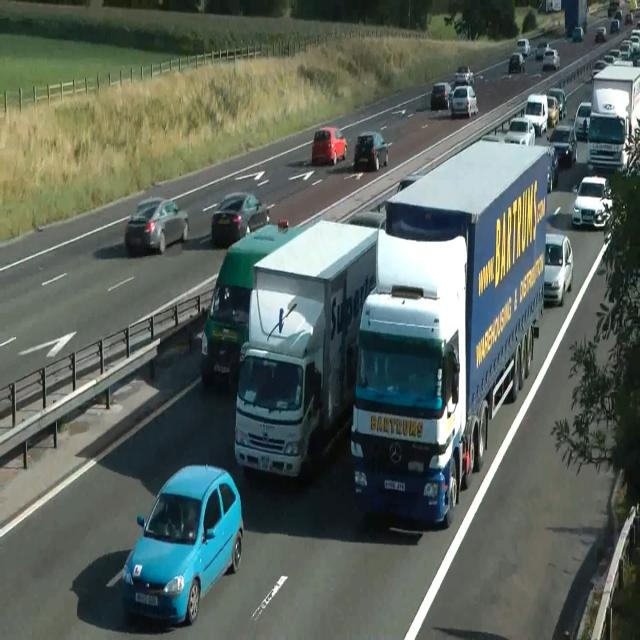bus: (122, 462, 244, 626), (124, 196, 190, 256), (210, 191, 270, 246), (572, 175, 614, 229), (543, 233, 573, 306), (311, 126, 347, 166), (354, 130, 388, 172), (546, 125, 578, 167), (397, 160, 433, 194), (503, 116, 535, 146), (346, 210, 386, 231), (574, 100, 592, 140), (545, 145, 559, 193), (430, 82, 453, 110), (547, 87, 567, 119), (542, 48, 560, 72), (547, 94, 559, 128), (454, 65, 474, 85), (591, 59, 609, 81), (508, 52, 525, 74), (603, 209, 614, 243), (534, 41, 550, 59), (517, 37, 530, 57), (603, 49, 621, 63), (594, 25, 606, 42), (572, 26, 584, 42), (629, 28, 639, 40), (611, 19, 619, 33), (624, 12, 632, 24), (614, 9, 622, 19)
car: (200, 218, 308, 390)
jeep: (524, 93, 548, 135), (449, 84, 477, 118)
minibus: (350, 137, 548, 527), (234, 218, 380, 480), (350, 227, 468, 528), (586, 63, 640, 173)
